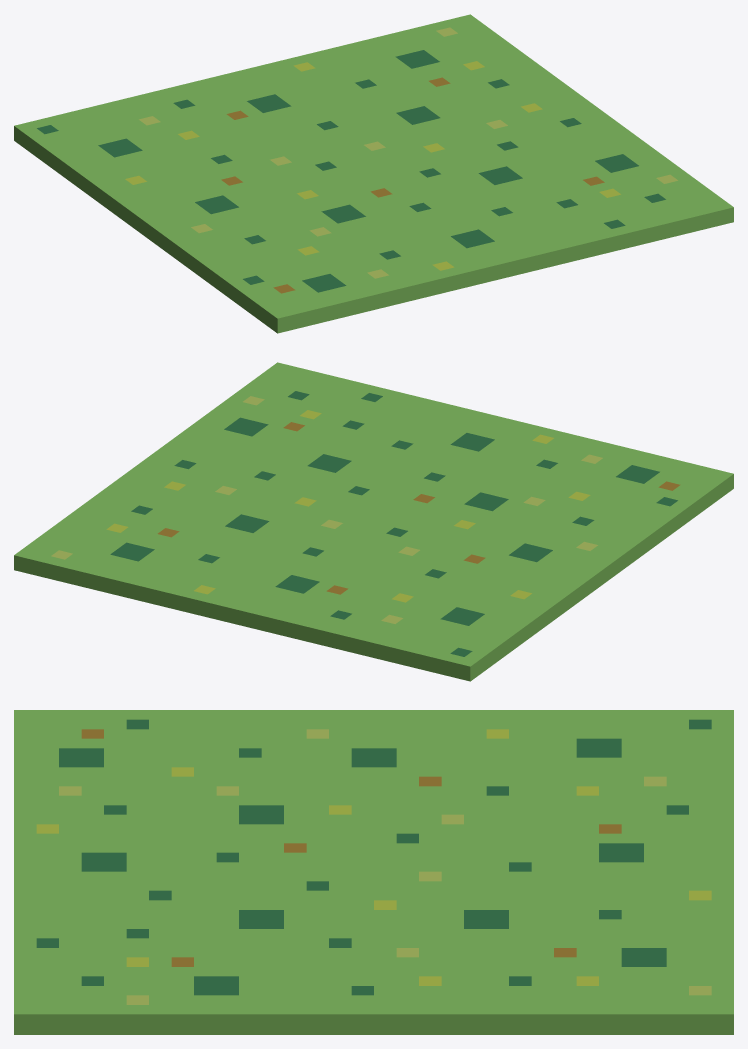
File: grass.glb
3 views of the same model, one above another, from view 1: azimuth 30°, elevation 25°; view 2: azimuth 150°, elevation 25°; view 3: azimuth 270°, elevation 25° (orthographic). The views are drawn at different scales.
Parts seen in each view (by area): view 1: Untitled.001; view 2: Untitled.001; view 3: Untitled.001.
Boxes of the visible parts, box(x1,y1,x2,y2) form: Untitled.001: box(14, 14, 733, 333); Untitled.001: box(14, 362, 733, 681); Untitled.001: box(14, 710, 733, 1034).
Bounding box in the file's own units: 3.2 × 0.1 × 3.2.
1 material, 1 textured.
